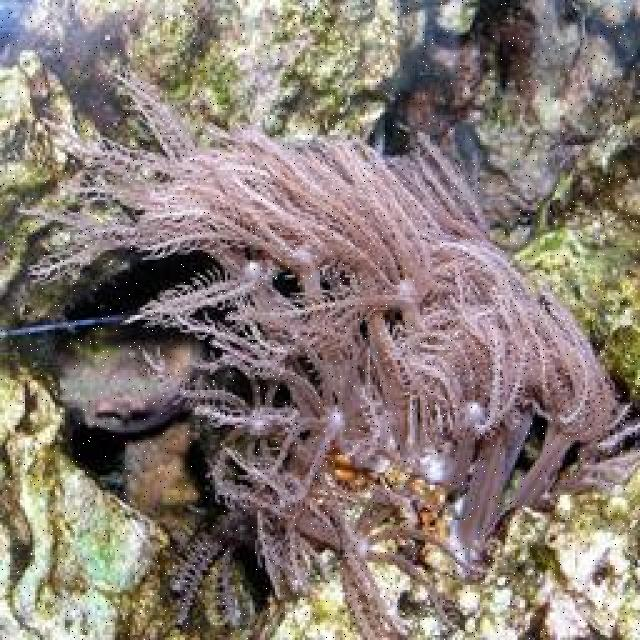reefs: (7, 59, 638, 638)
